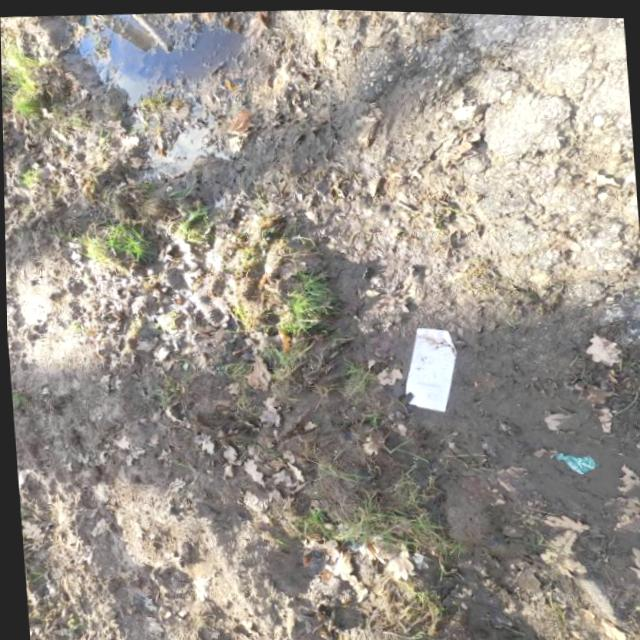Paper: (398, 320, 460, 411)
Plastic: (553, 446, 598, 472)
